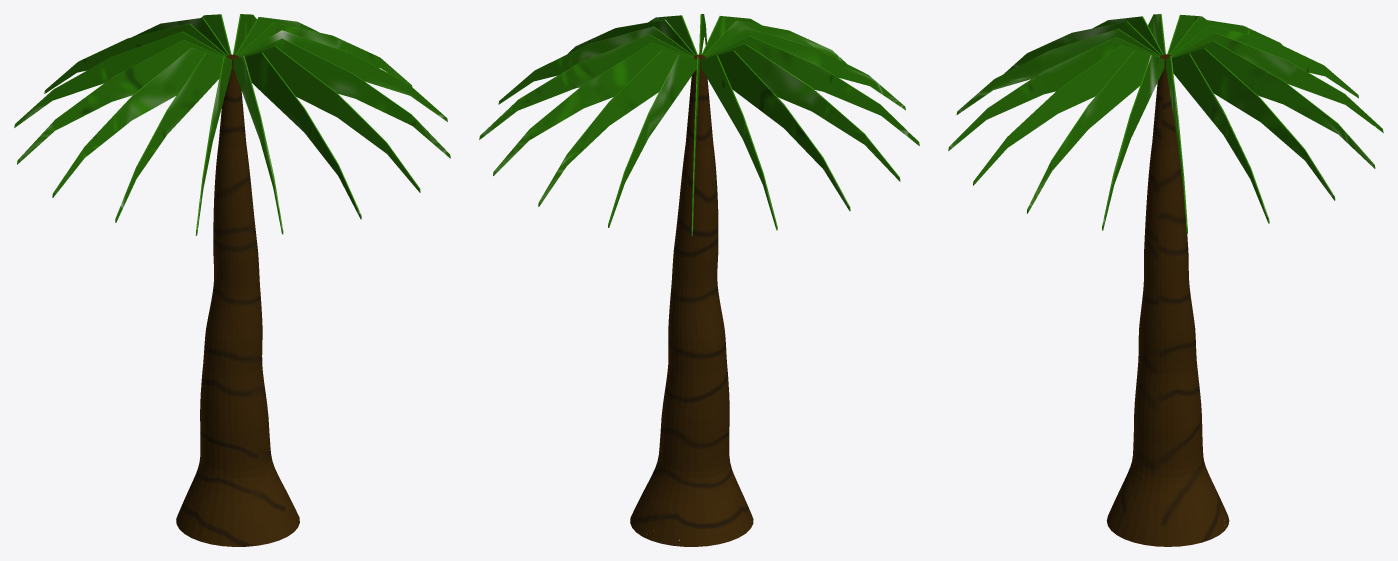
Rendered from palmtree.glb.
3 renders of one model, left to right at view 1: azimuth 30°, elevation 25°; view 2: azimuth 150°, elevation 25°; view 3: azimuth 270°, elevation 25°, orthographic.
Parts seen in each view (by area): view 1: Circle; view 2: Circle; view 3: Circle.
Part boxes in pixels (x1,y1,x2,y2): Circle: [14, 14, 450, 546]; Circle: [479, 14, 919, 546]; Circle: [948, 14, 1383, 546].
Bounding box in the file's own units: 5.04 × 6.16 × 5.04.
Materials: 1 (1 with a texture image).
